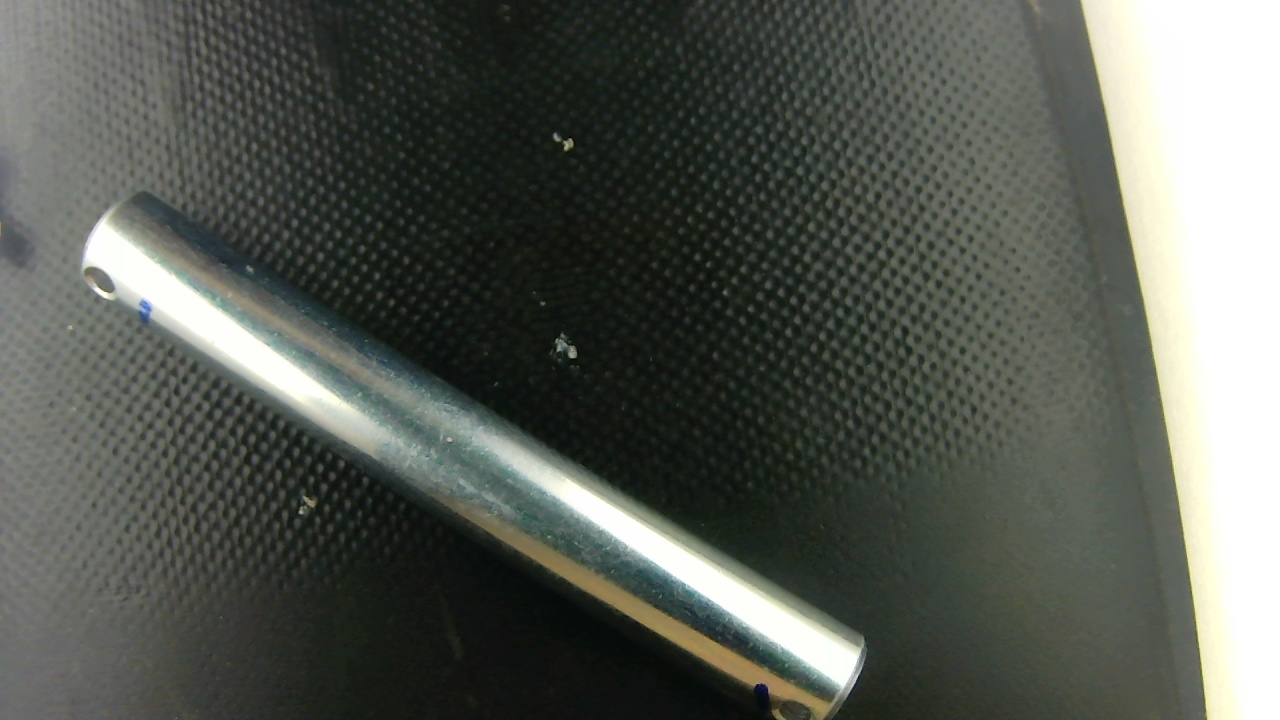Okay_Pin: (82, 194, 864, 719)
